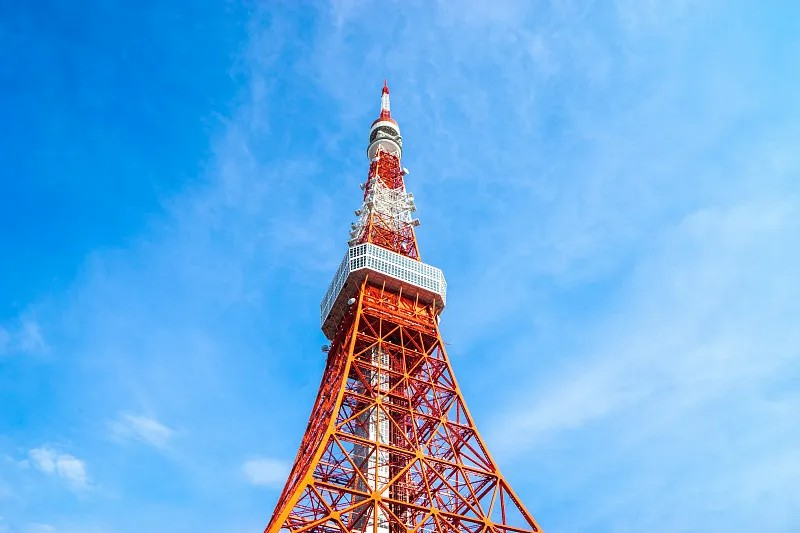Tokyo: (263, 73, 547, 531)
